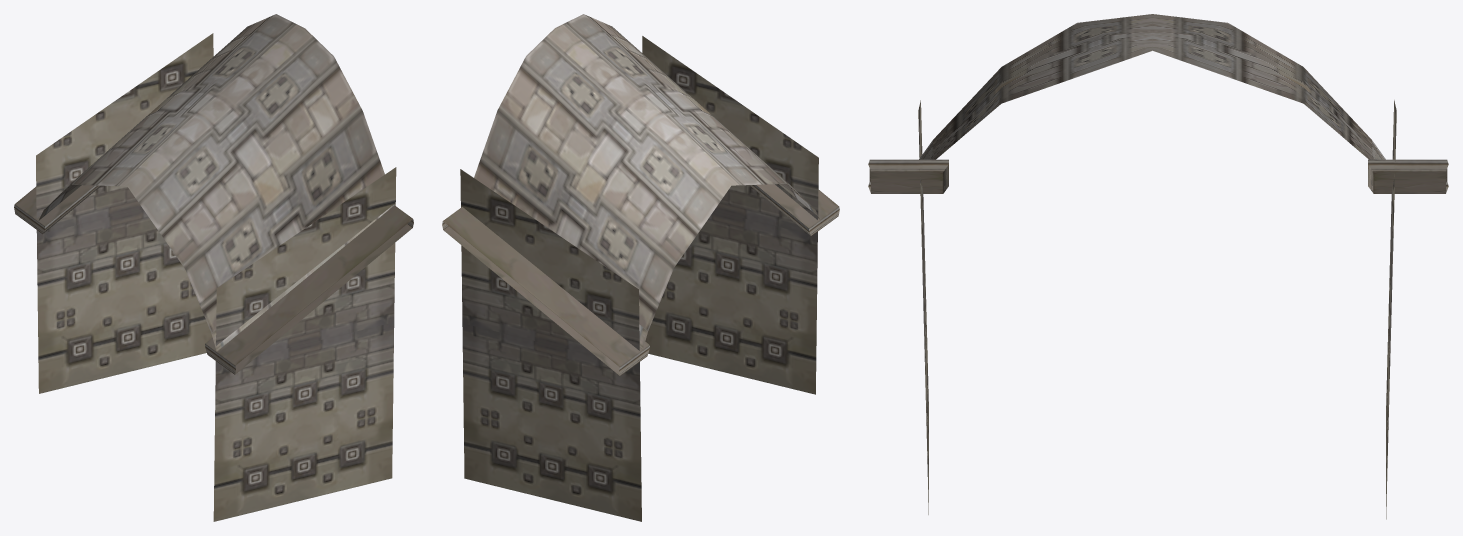
Rendered from DN_tushuguan_tongdao_e.FBX.
The picture shows the model from 3 angles, left to right: view 1: azimuth 30°, elevation 25°; view 2: azimuth 150°, elevation 25°; view 3: azimuth 270°, elevation 25°; orthographic projection. The views are drawn at different scales.
Parts seen in each view (by area): view 1: DN_tushuguan_tongdao_e; view 2: DN_tushuguan_tongdao_e; view 3: DN_tushuguan_tongdao_e.
Part boxes in pixels (box(x1,y1,x2,y2)): DN_tushuguan_tongdao_e: box(14, 14, 413, 521); DN_tushuguan_tongdao_e: box(442, 14, 839, 521); DN_tushuguan_tongdao_e: box(868, 14, 1448, 519).
Bounding box in the file's own units: 517 × 1068 × 1108.
